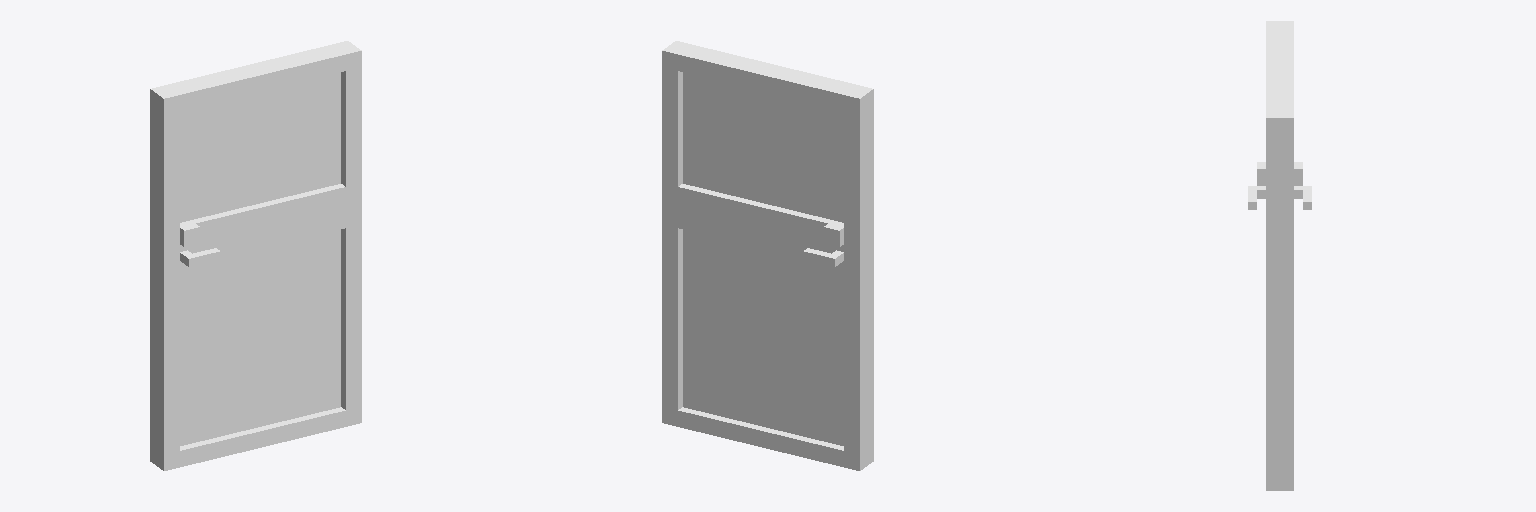
File: ovi.obj
The picture shows the model from 3 angles: view 1: azimuth 30°, elevation 25°; view 2: azimuth 150°, elevation 25°; view 3: azimuth 270°, elevation 25°; orthographic projection.
Size of the model in its own units: 25 by 45 by 7.